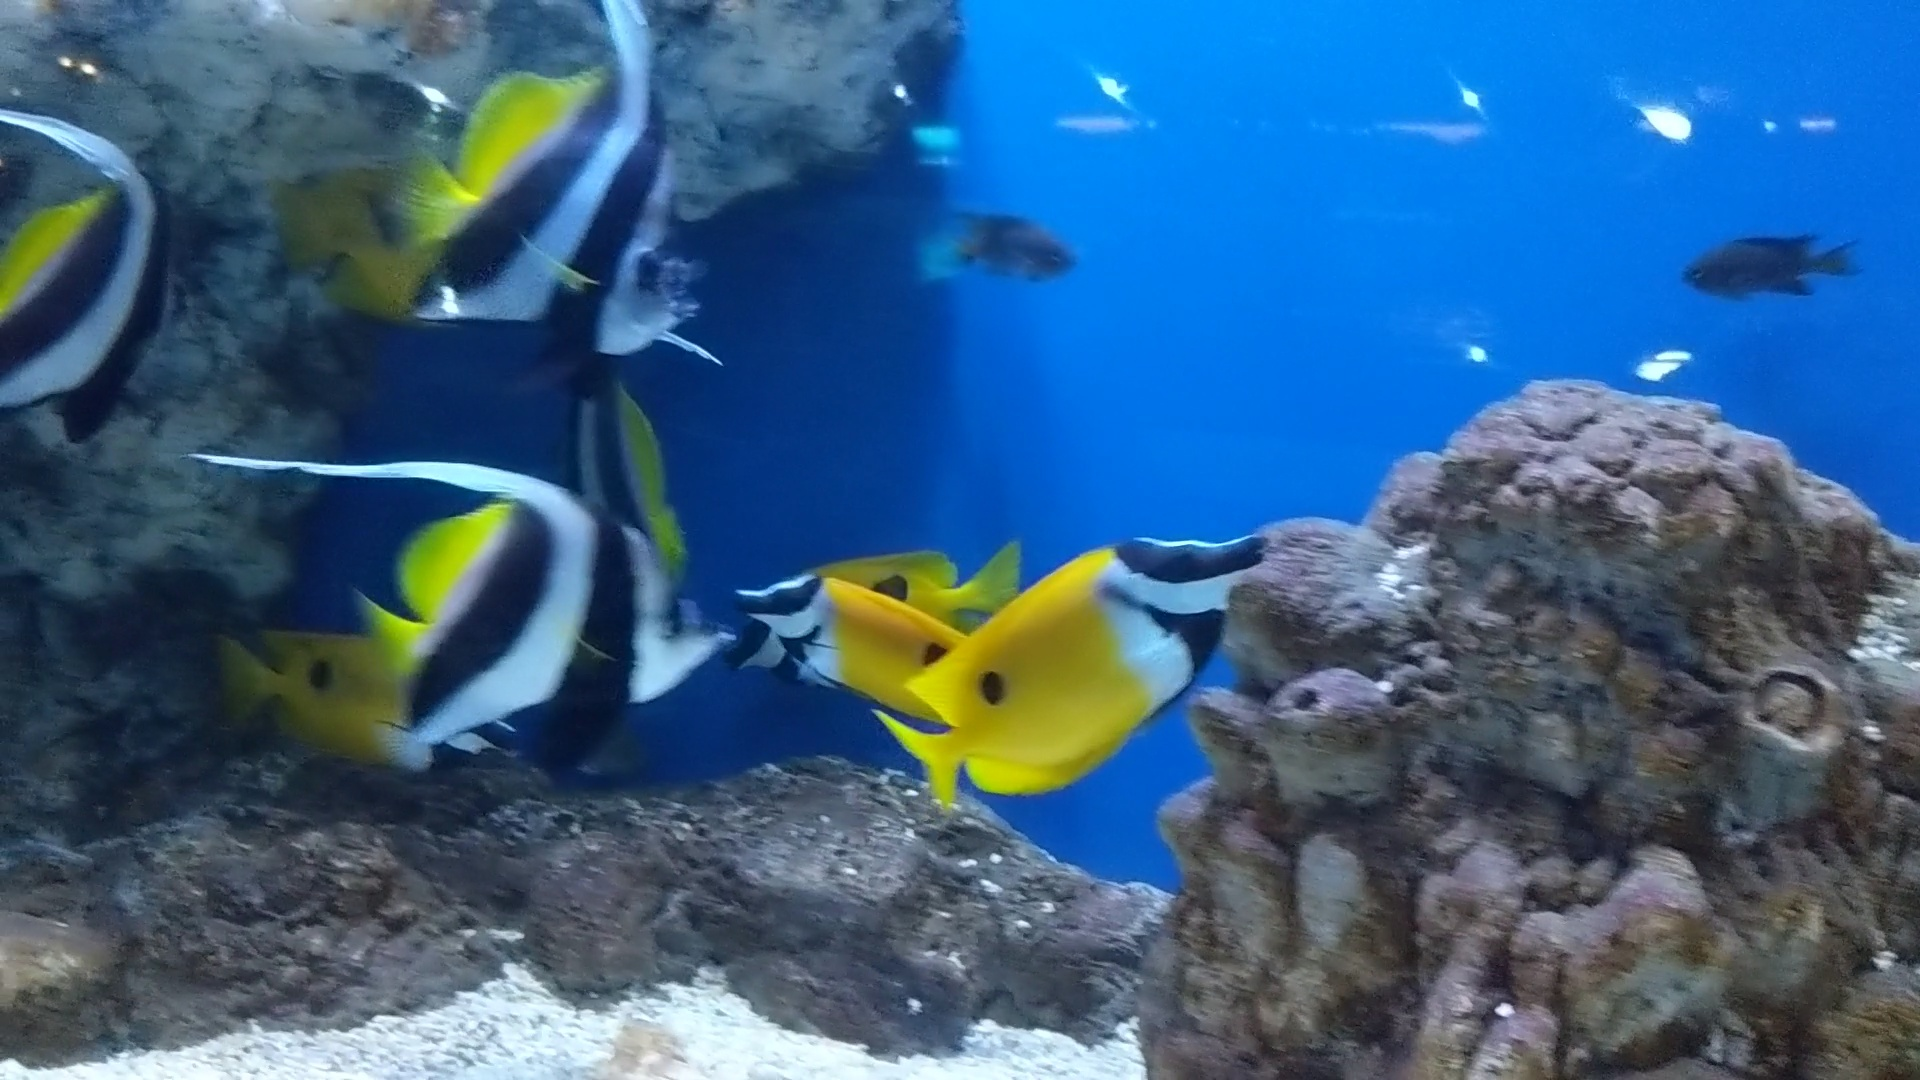moorfish: (154, 440, 738, 766), (305, 22, 704, 359), (0, 119, 204, 483), (560, 348, 700, 576)
rabbitfish: (893, 495, 1276, 839), (193, 603, 398, 754), (742, 564, 944, 716)
